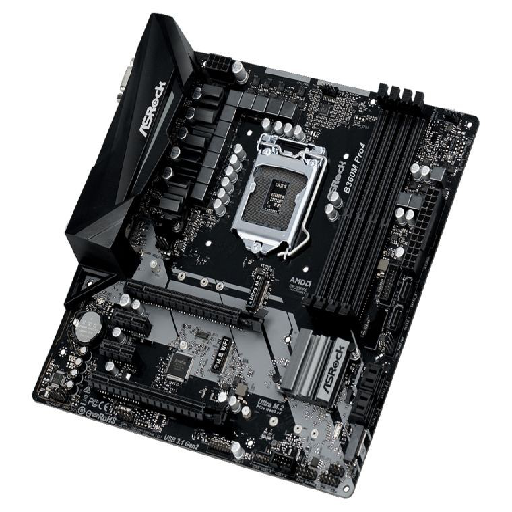CPU: (229, 121, 324, 261)
GPU: (80, 368, 228, 431), (119, 277, 266, 338)
MOTHERBOARD: (31, 7, 484, 497)
RAM: (307, 80, 428, 330)
SSD: (238, 265, 277, 314), (206, 333, 241, 379)
